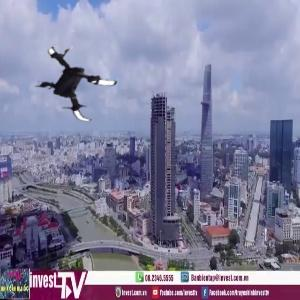drone: (26, 35, 119, 128)
